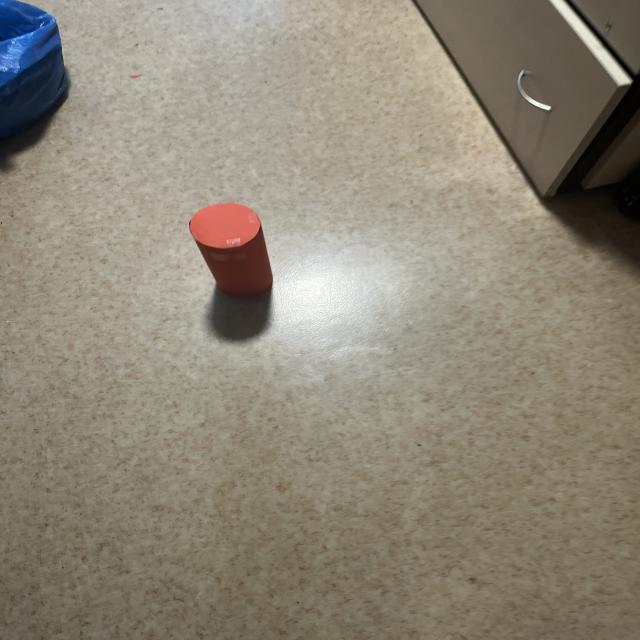przeszkoda: (189, 203, 272, 297)
